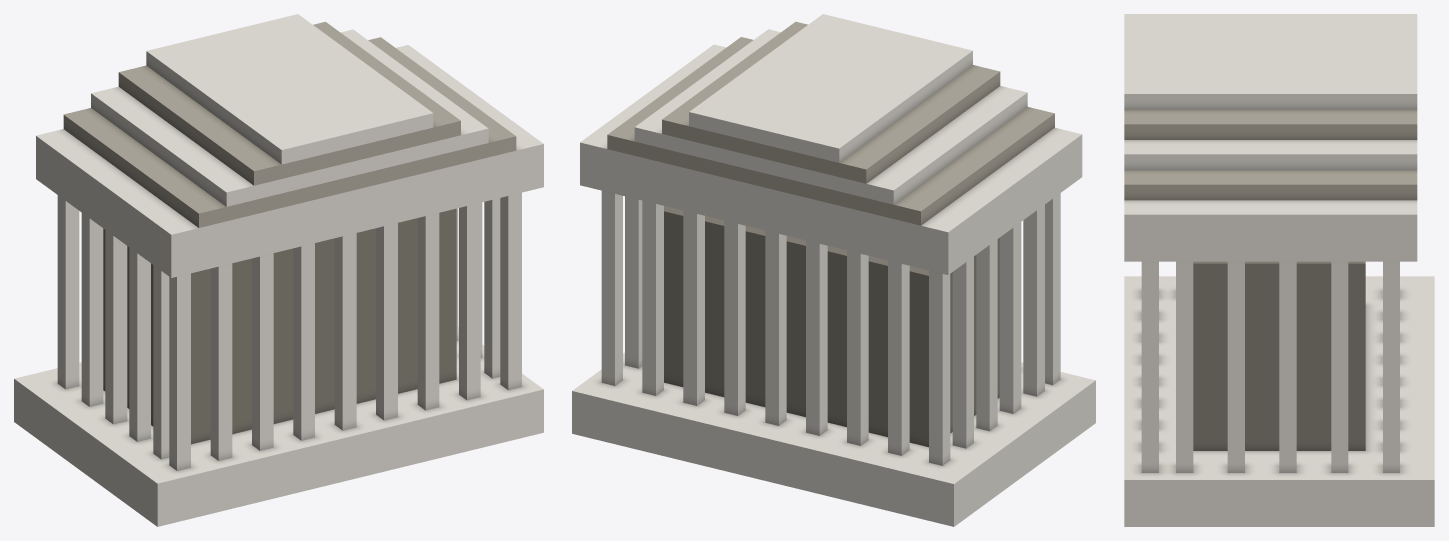
Rendered from w_temple.glb.
3 renders of one model, left to right at view 1: azimuth 30°, elevation 25°; view 2: azimuth 150°, elevation 25°; view 3: azimuth 270°, elevation 25°, orthographic. The views are drawn at different scales.
Visible parts, largest first — view 1: w_temple_body; view 2: w_temple_body; view 3: w_temple_body.
Part boxes in pixels (x1,y1,x2,y2): w_temple_body: (14, 14, 543, 526); w_temple_body: (572, 14, 1095, 526); w_temple_body: (1124, 14, 1434, 526).
Bounding box in the file's own units: 1.75 × 1.5 × 1.12.
Materials: 1 (1 with a texture image).
